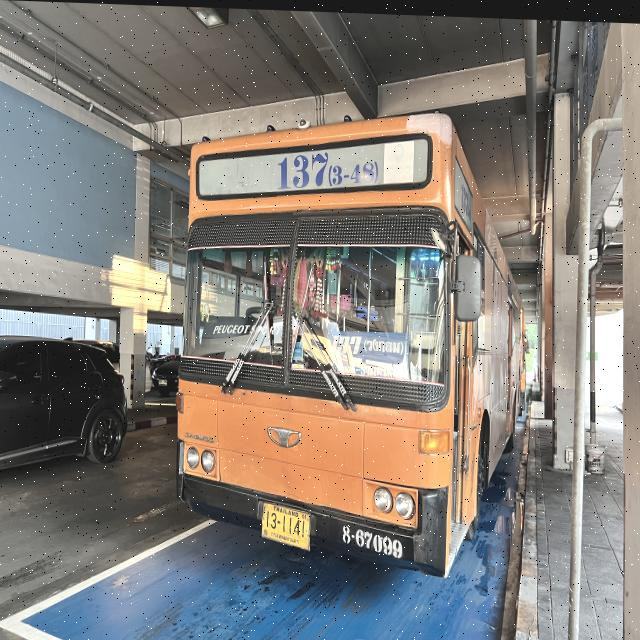BMTA-bus: (175, 110, 521, 574)
Bus Line Number: (278, 145, 382, 193)
Bus Side Number: (340, 516, 404, 559)
Destination Sign: (324, 330, 409, 378)
